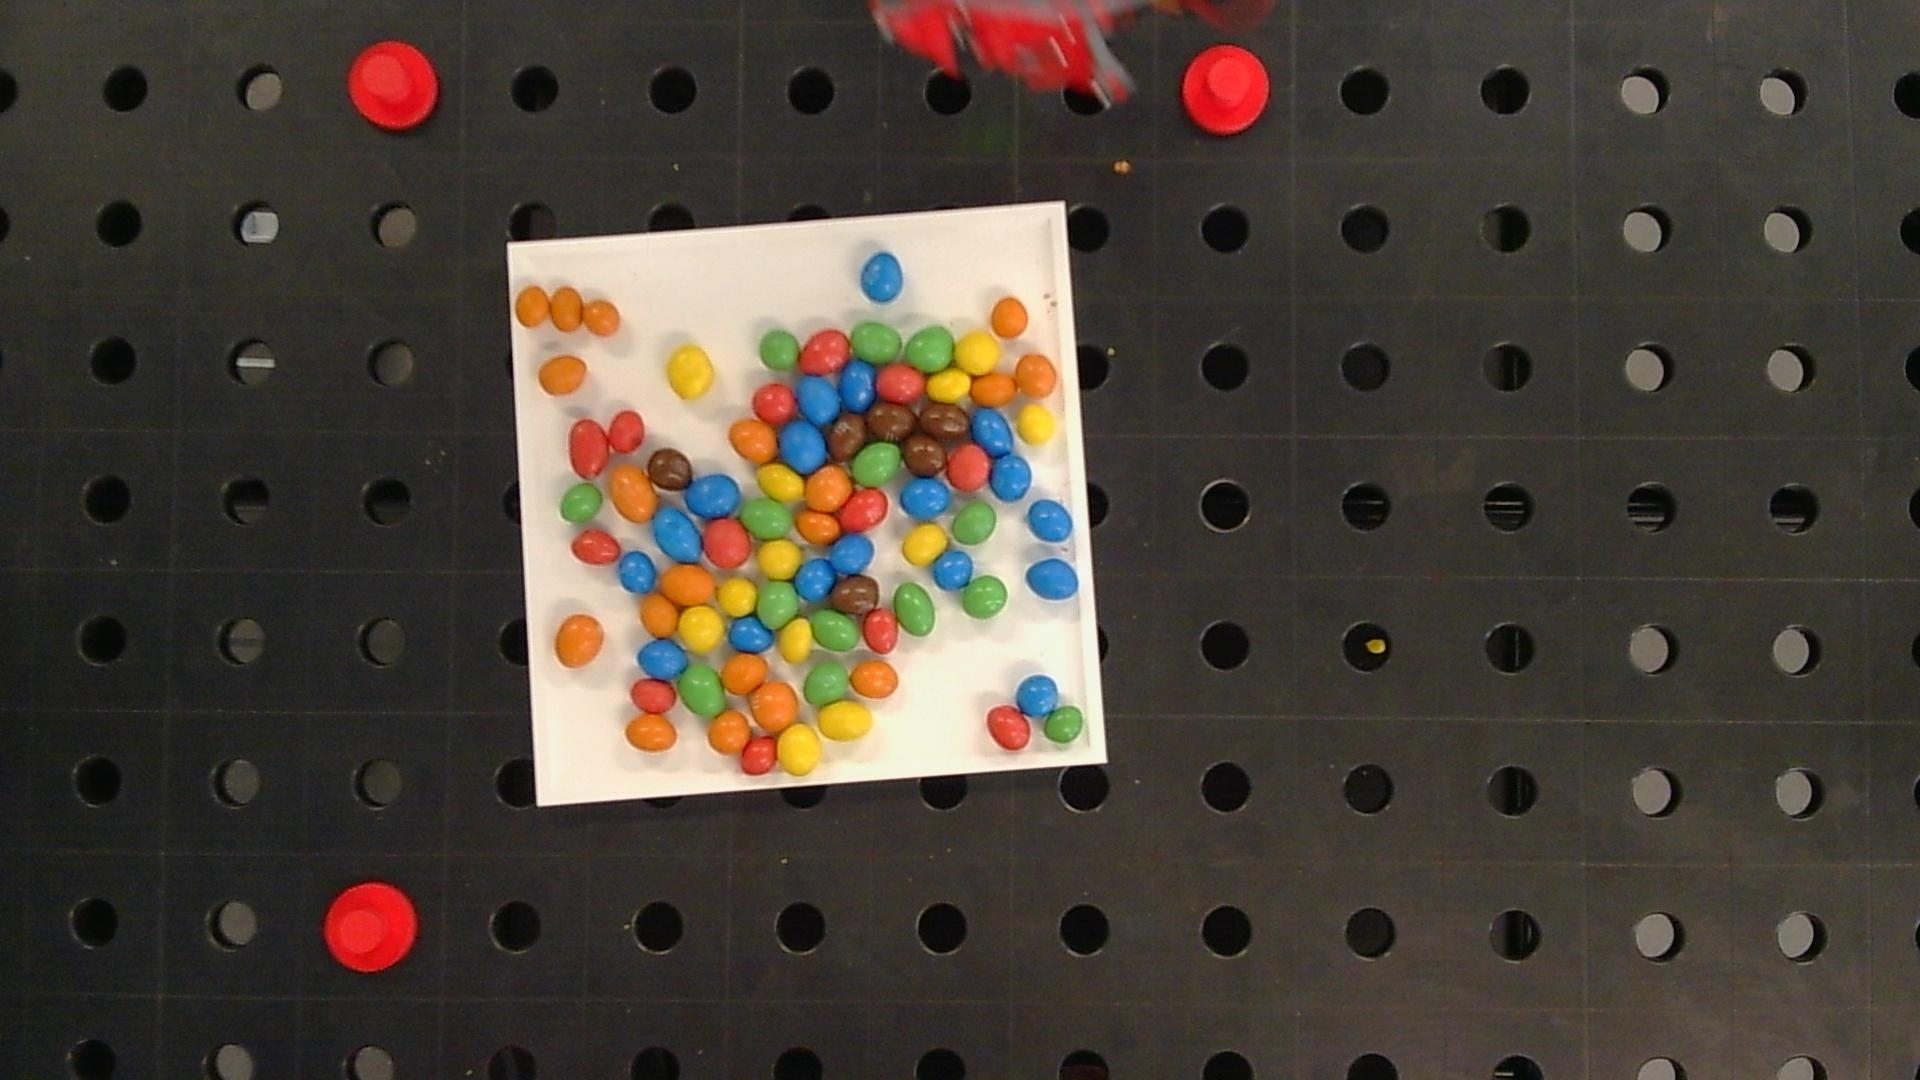blue: (654, 509, 702, 562), (686, 473, 741, 517), (781, 421, 827, 471), (860, 252, 903, 303), (1026, 559, 1079, 600), (796, 376, 841, 423), (1027, 500, 1072, 543), (902, 477, 949, 518), (638, 638, 687, 678), (990, 454, 1031, 500), (972, 407, 1011, 455), (840, 361, 876, 410), (832, 533, 874, 574), (795, 558, 836, 600), (1017, 675, 1059, 715), (729, 616, 773, 651), (934, 551, 973, 589), (618, 553, 655, 592)
brown: (647, 447, 692, 491), (920, 405, 969, 444), (868, 402, 918, 439), (833, 576, 880, 616), (903, 434, 945, 476), (828, 415, 866, 462)
green: (679, 665, 724, 715), (894, 583, 935, 636), (741, 498, 794, 539), (852, 443, 901, 487), (906, 327, 955, 371), (804, 661, 849, 707), (851, 323, 902, 363), (963, 576, 1009, 618), (812, 609, 858, 651), (952, 502, 997, 545), (758, 582, 799, 628), (1043, 705, 1085, 745), (559, 484, 603, 522), (760, 331, 799, 371)
orange: (609, 465, 657, 522), (555, 613, 604, 666), (750, 682, 798, 731), (729, 419, 778, 463), (661, 566, 715, 604), (806, 465, 851, 509), (708, 711, 750, 754), (625, 716, 676, 752), (539, 356, 587, 394), (1015, 353, 1056, 397), (851, 661, 898, 698), (723, 657, 770, 692), (796, 509, 843, 543), (641, 593, 678, 636), (972, 373, 1017, 406), (550, 286, 583, 330), (990, 298, 1027, 336), (516, 286, 550, 326), (585, 301, 620, 335)
red: (568, 419, 608, 479), (704, 520, 750, 567), (800, 330, 849, 373), (986, 705, 1031, 749), (840, 489, 887, 529), (948, 446, 990, 489), (877, 365, 924, 401), (753, 384, 796, 422), (571, 530, 620, 563), (608, 410, 645, 452), (864, 608, 898, 653), (632, 679, 675, 713), (740, 738, 777, 774)
yellow: (667, 345, 715, 398), (816, 700, 873, 740), (777, 724, 820, 774), (679, 607, 725, 651), (955, 331, 1000, 372), (902, 525, 947, 564), (758, 464, 804, 501), (758, 539, 800, 579), (1018, 404, 1055, 443), (779, 620, 814, 662), (926, 369, 971, 401), (717, 578, 756, 615)
